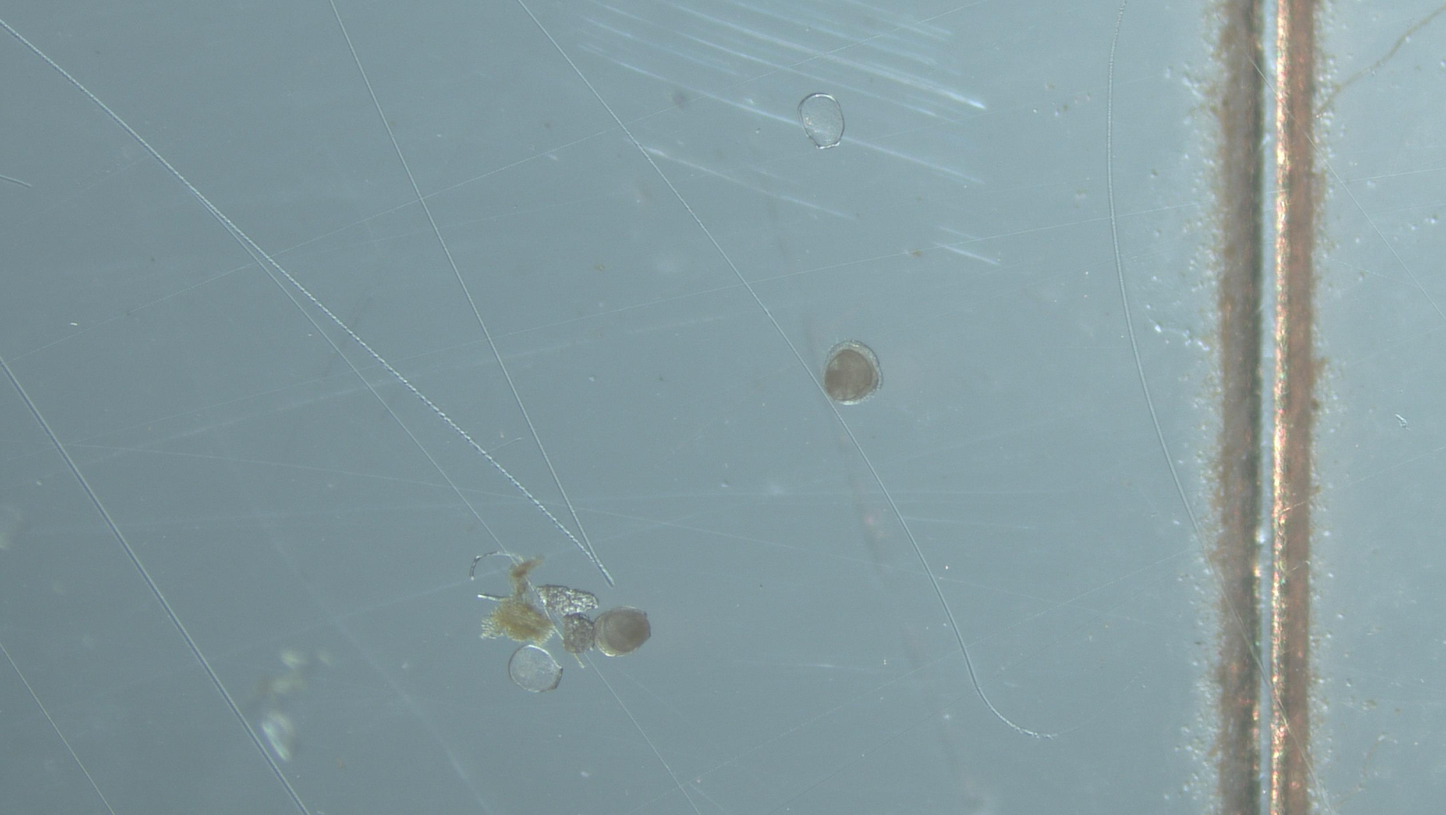dead: (508, 644, 563, 692), (799, 94, 845, 149)
live: (821, 343, 881, 406), (589, 607, 652, 657)
